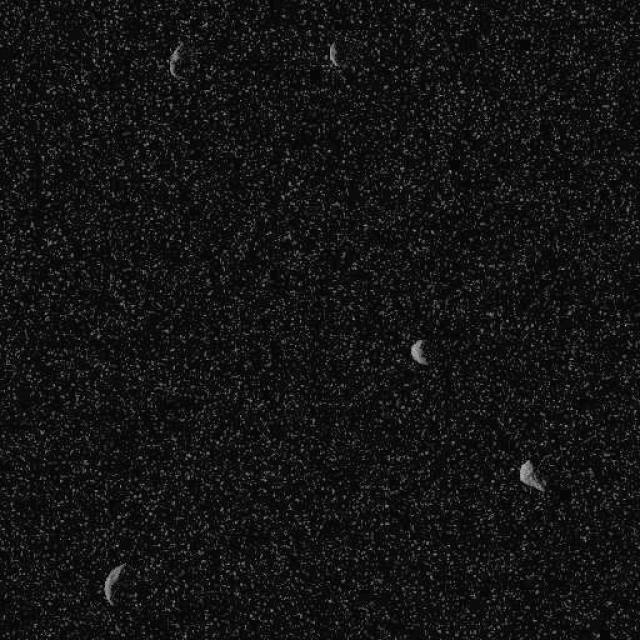D2: (102, 563, 126, 605), (518, 458, 546, 492), (166, 40, 186, 79), (409, 337, 429, 365), (326, 42, 340, 66)
